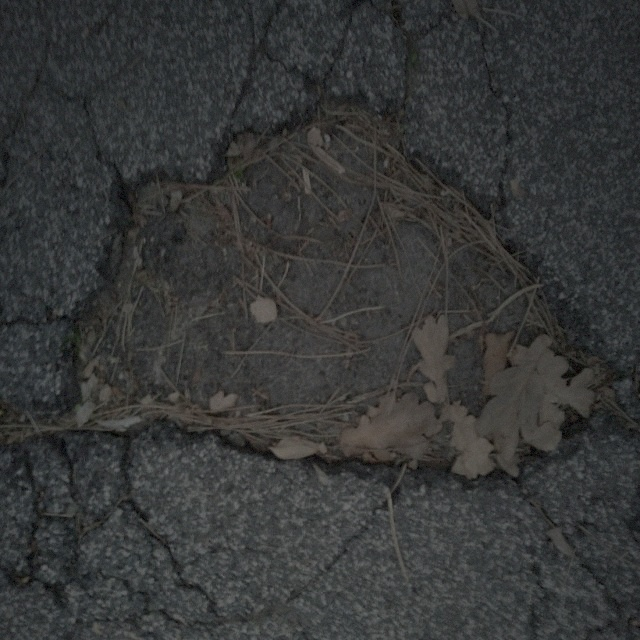pothole: (60, 77, 622, 499)
